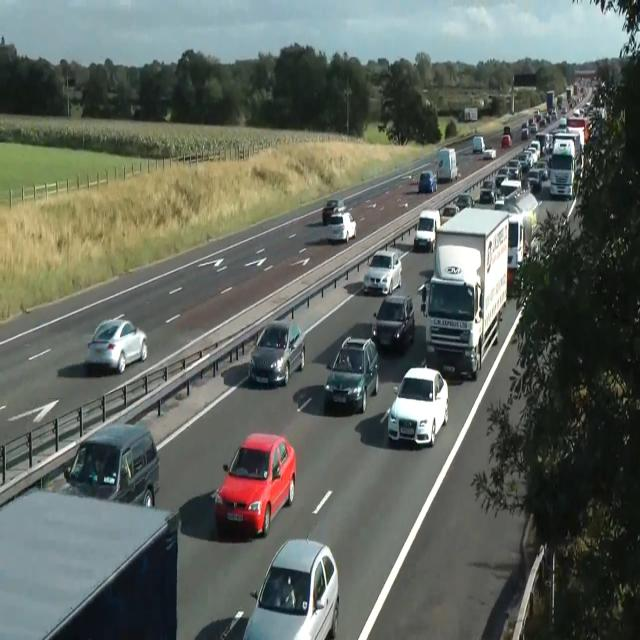bus: (242, 535, 340, 639), (214, 432, 296, 537), (388, 365, 448, 447), (324, 336, 379, 413), (249, 317, 305, 387), (84, 314, 148, 374), (322, 198, 348, 226), (440, 203, 460, 225), (418, 171, 436, 193), (526, 169, 542, 192), (454, 194, 474, 212), (501, 134, 512, 148), (520, 122, 528, 140), (483, 148, 495, 159), (503, 125, 511, 135), (561, 104, 567, 114)
jeep: (62, 422, 160, 508), (372, 294, 414, 351), (363, 247, 402, 295), (414, 208, 441, 252), (328, 210, 357, 242)
minibus: (0, 487, 179, 639), (418, 206, 510, 380), (549, 132, 583, 198), (435, 147, 458, 182), (472, 135, 484, 153), (464, 107, 478, 121), (546, 90, 554, 111)
